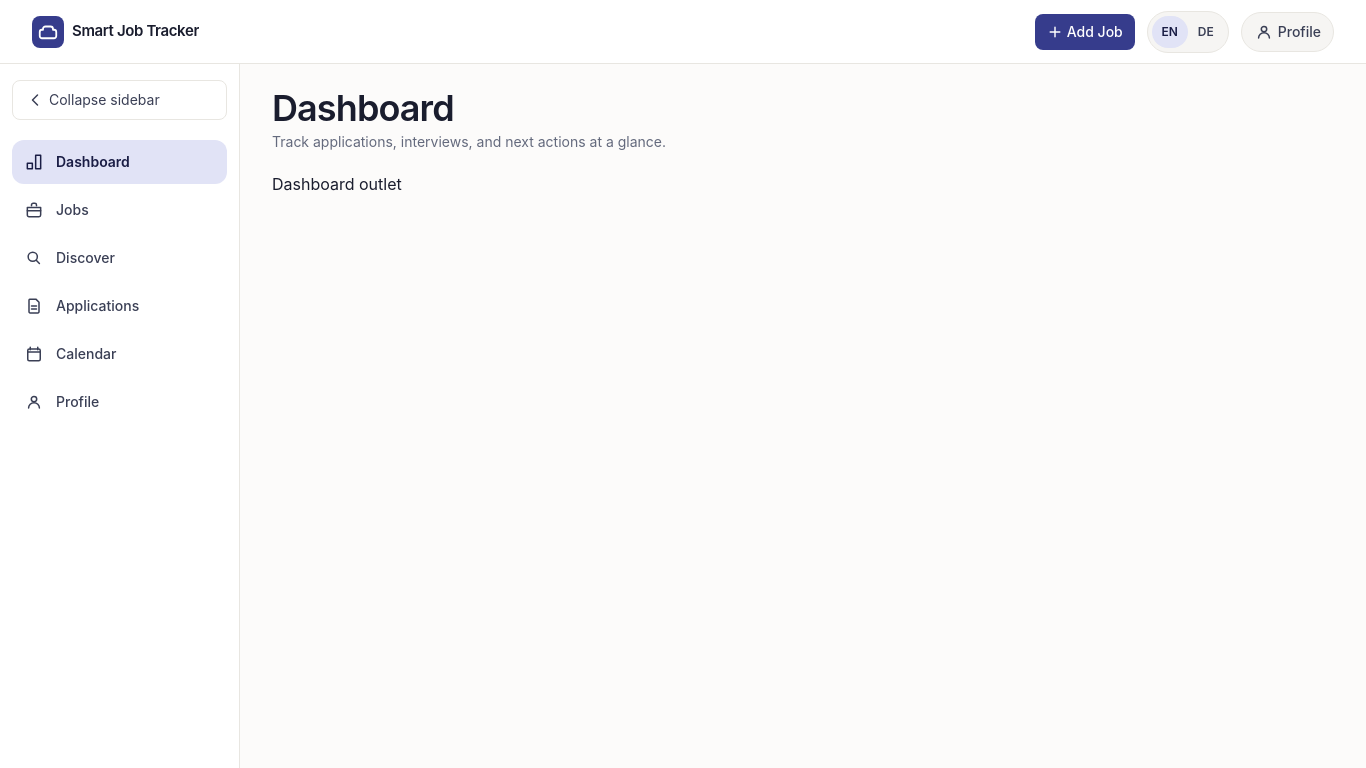
it: AppShell › updates the language from the header language selector
Click the button with aria-label "DE German" at (1206, 32), box top-left (1188, 16), bottom-right (1224, 48)
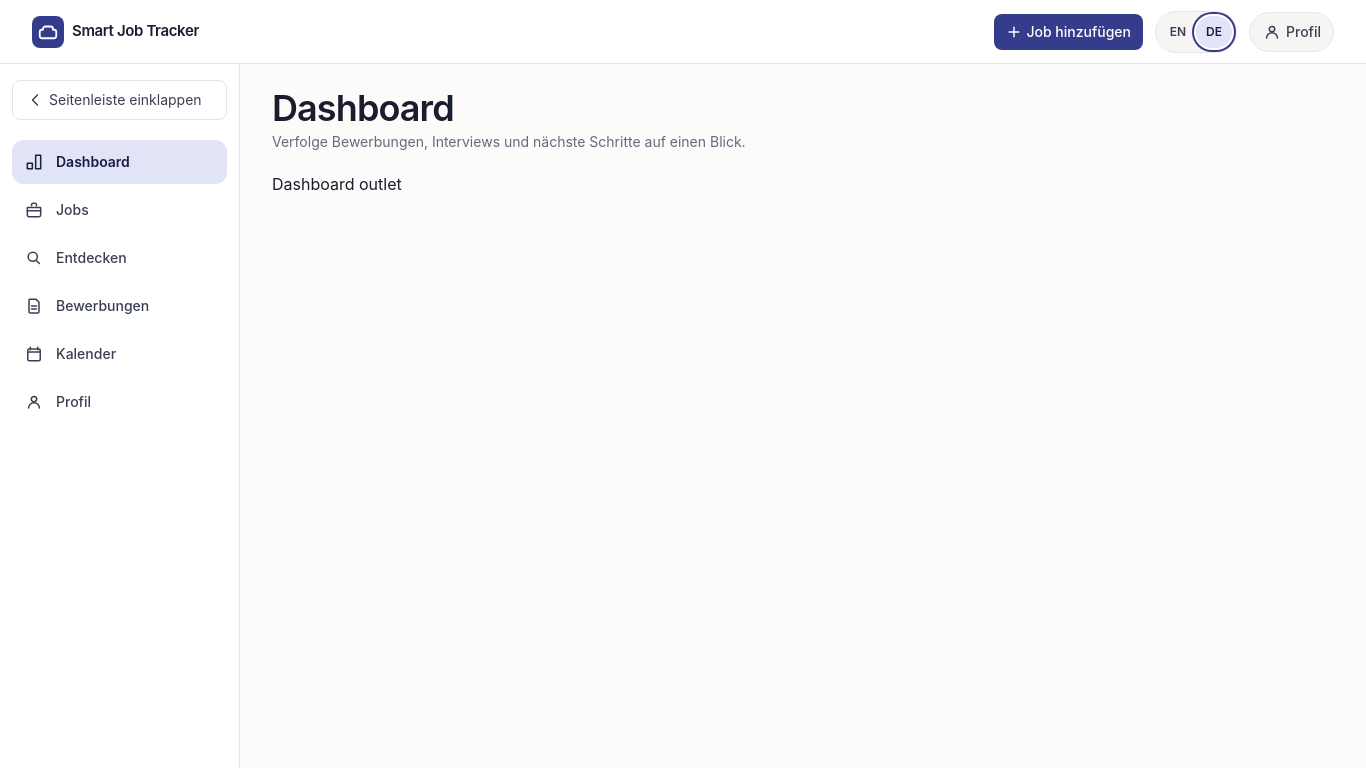
Check: the navigation bar named "Hauptnavigation" is shown, box top-left (12, 140), bottom-right (227, 424)
